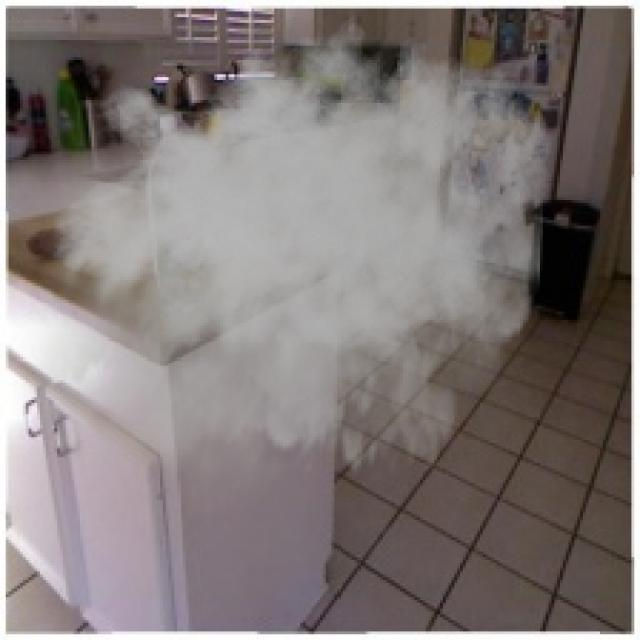smoke: (2, 0, 555, 535)
